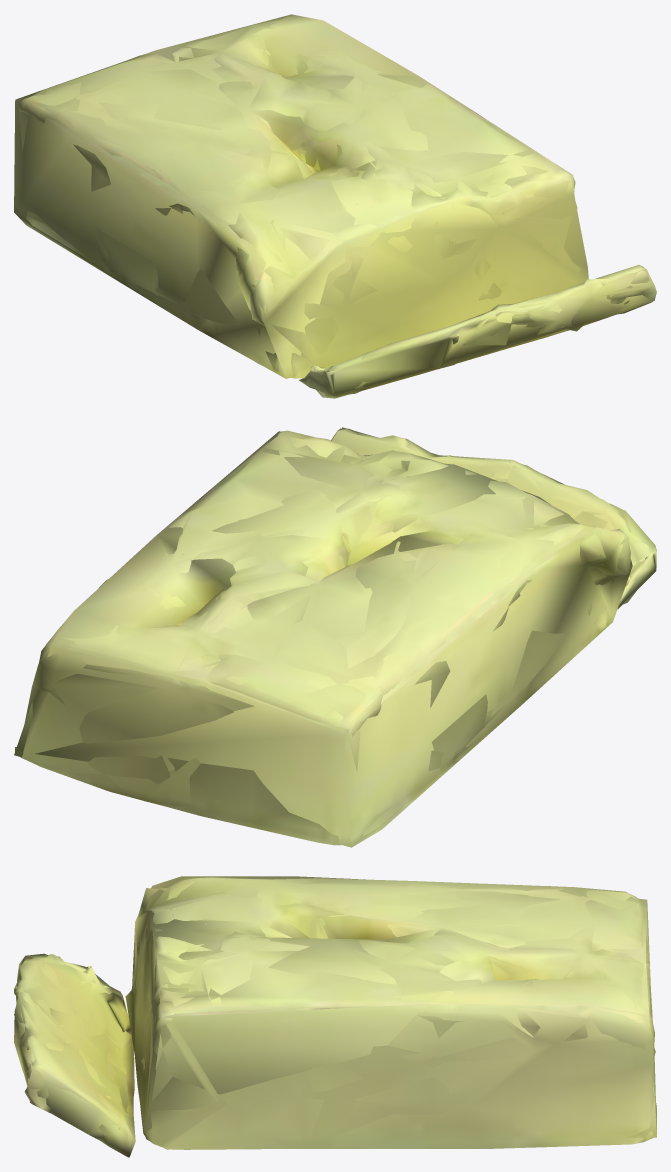
The model's file is imp-butter.glb.
The picture shows the model from 3 angles, top to bottom: view 1: azimuth 30°, elevation 25°; view 2: azimuth 150°, elevation 25°; view 3: azimuth 270°, elevation 25°; orthographic projection. The views are drawn at different scales.
Visible parts, largest first — view 1: Kerbside_metres_ground_pivot (×3); view 2: Kerbside_metres_ground_pivot (×3); view 3: Kerbside_metres_ground_pivot (×3).
Part boxes in pixels (x1,y1,x2,y2): Kerbside_metres_ground_pivot (×3): [14, 14, 656, 398]; Kerbside_metres_ground_pivot (×3): [14, 427, 656, 847]; Kerbside_metres_ground_pivot (×3): [14, 876, 656, 1157].
Size of the model in its own units: 0.081 by 0.033 by 0.13.
1 material, 1 textured.
